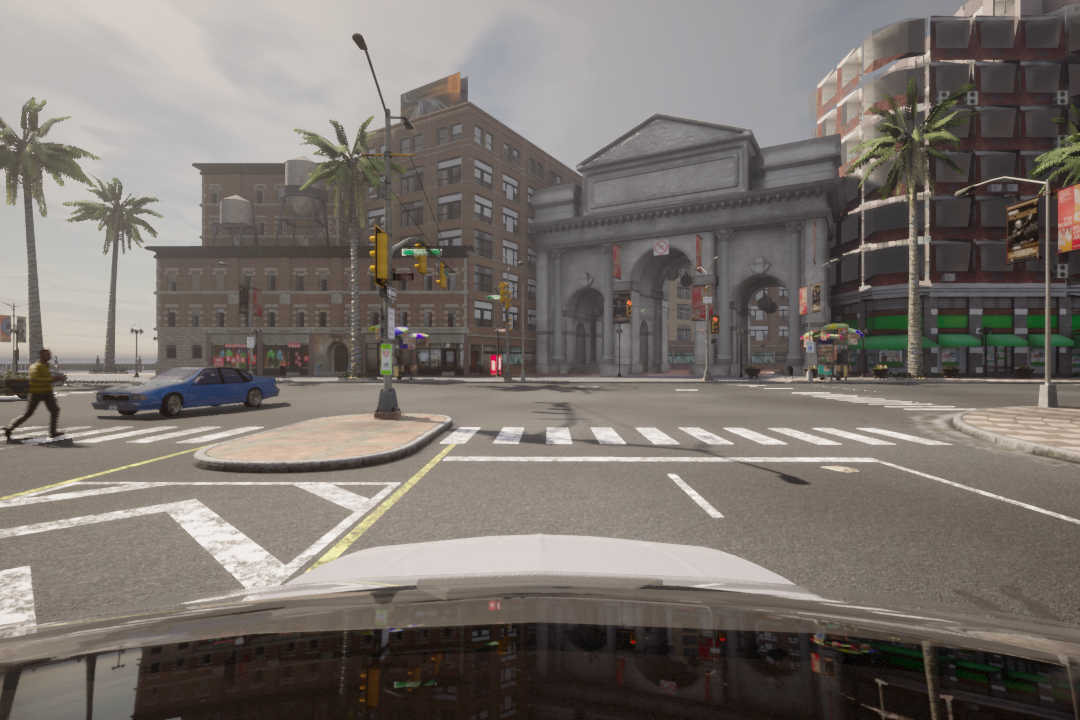TrafficLight: (710, 314, 721, 335), (624, 297, 632, 317)
TrafficSign: (656, 240, 670, 254)
walkside: (450, 423, 944, 457), (1, 419, 268, 453)
